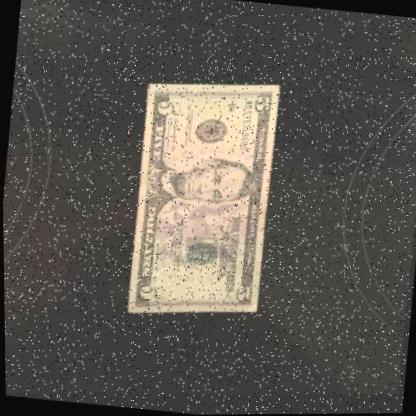five-front: (120, 73, 284, 329)
